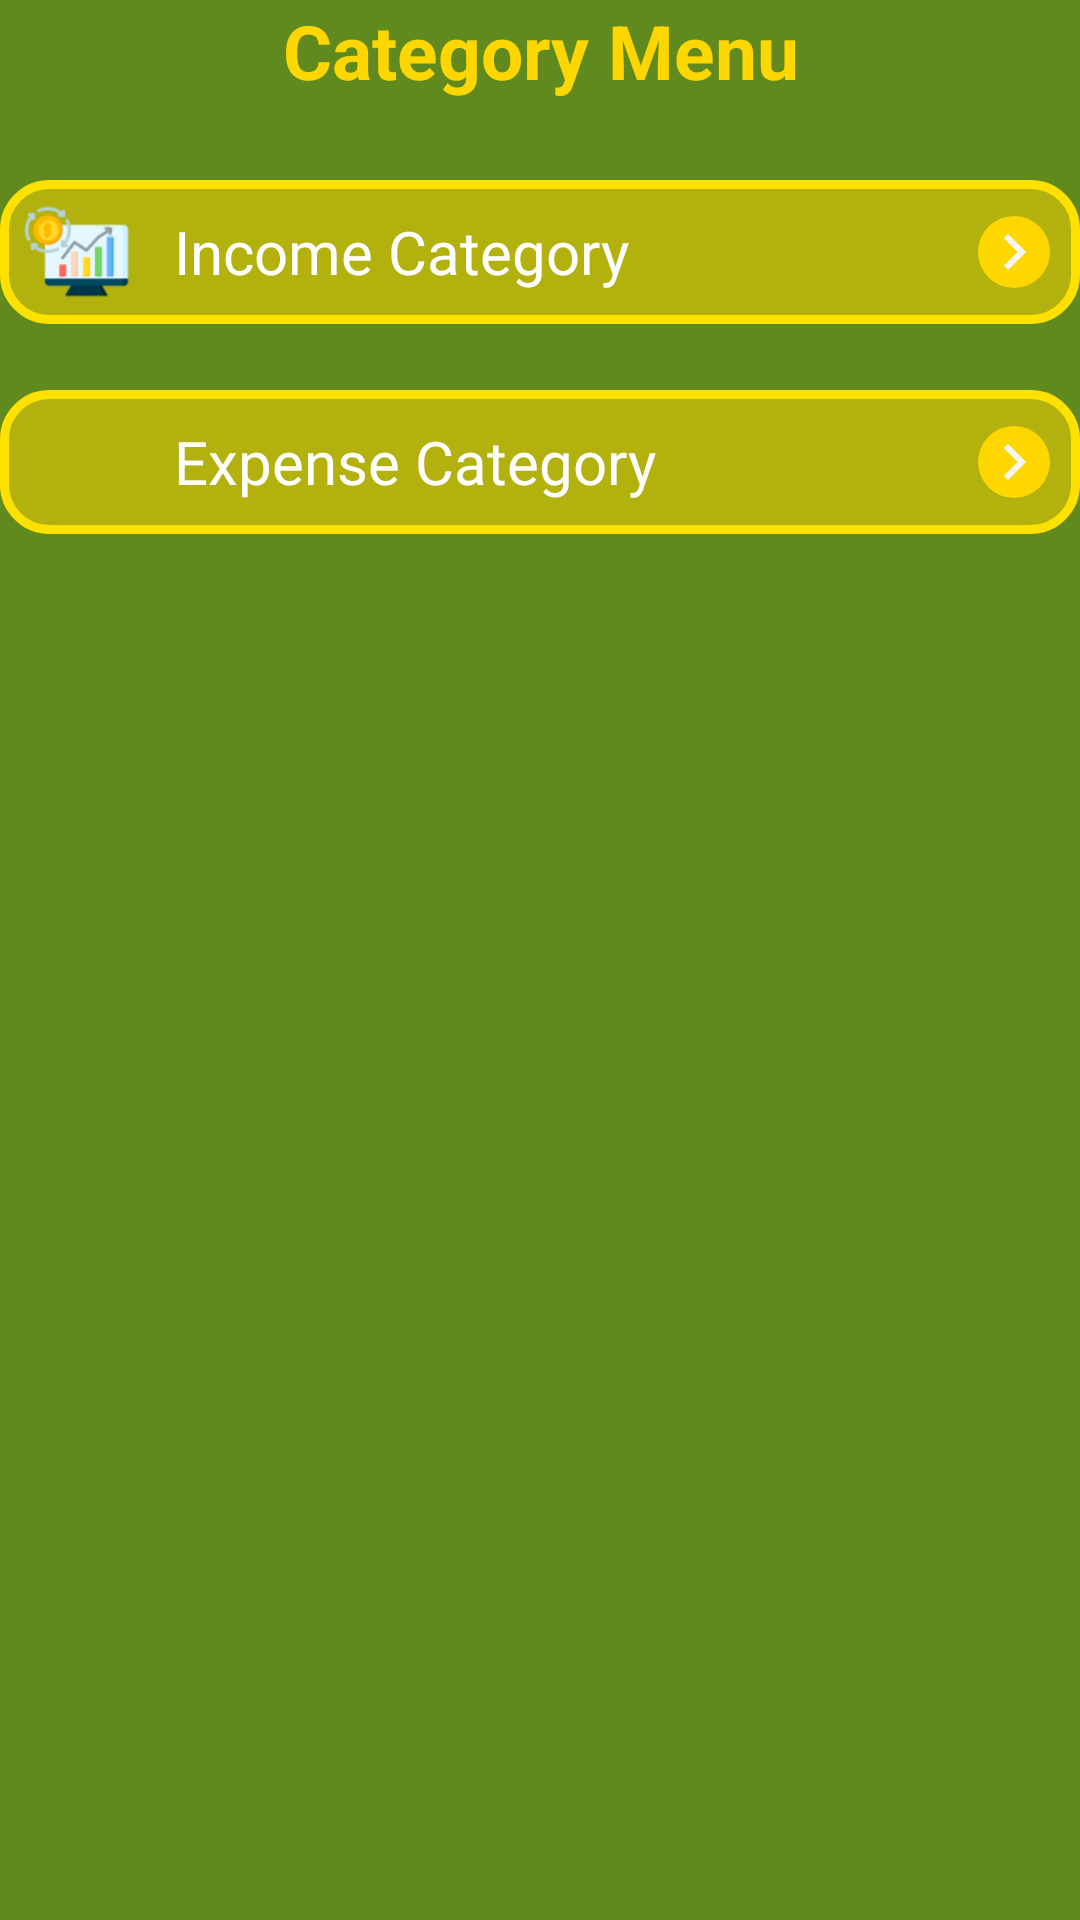

Point at icon controls on the screen. Image size 1080x1920, points as point (x, y).
arrow right: point (1014, 252), point (1014, 462)
